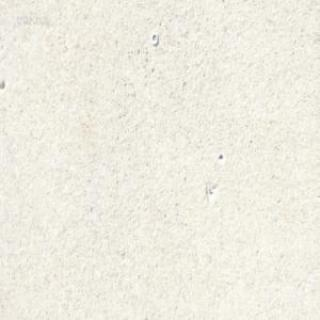Washertrack_idkeyframe: (149, 32, 157, 45)
